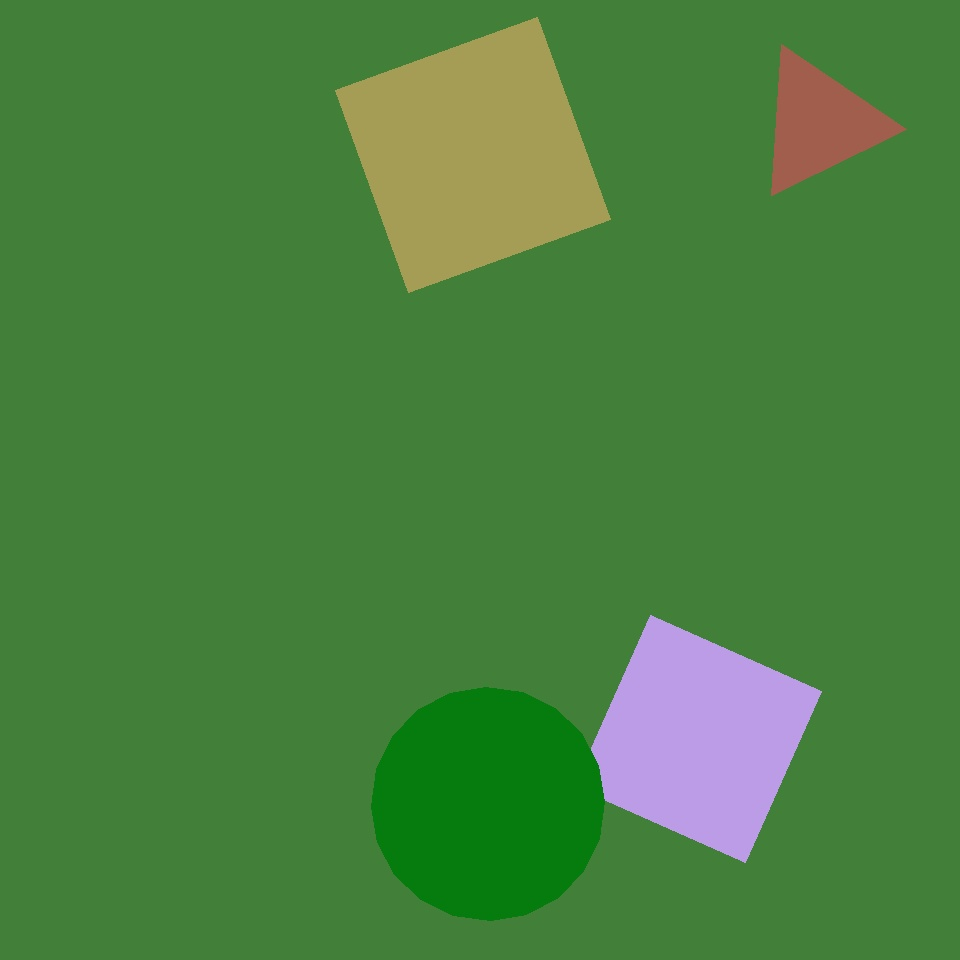circle: (752, 47, 888, 198)
square: (336, 18, 610, 292), (574, 616, 822, 862)
triangle: (372, 688, 604, 920)
